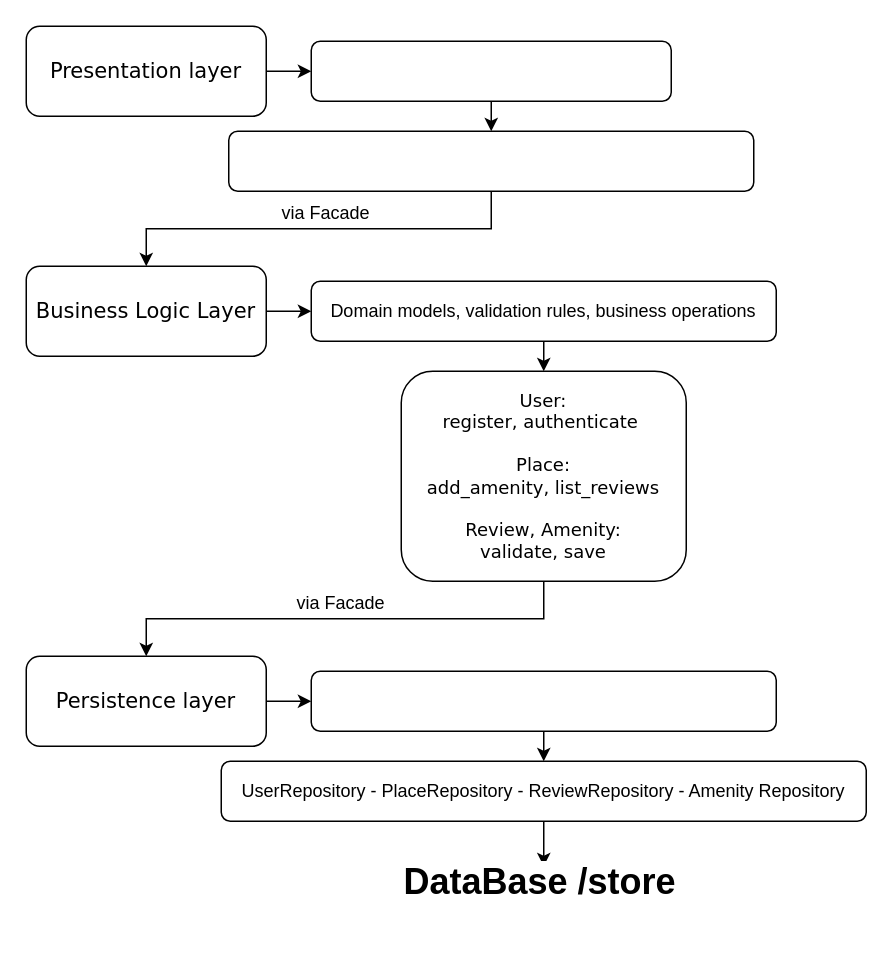
Some shapes in this 893 by 957 pixel diagram are drawn without their labels. The centre of each missing label's shape, as x and y in pixels:
"Data storage and retrieval, database abstraction" goes at (x=543, y=700).
"Handles HTTP requests and responses" goes at (x=490, y=70).
"UserServide - PlaceService - ReviewService - AmenityService" goes at (x=490, y=160).
